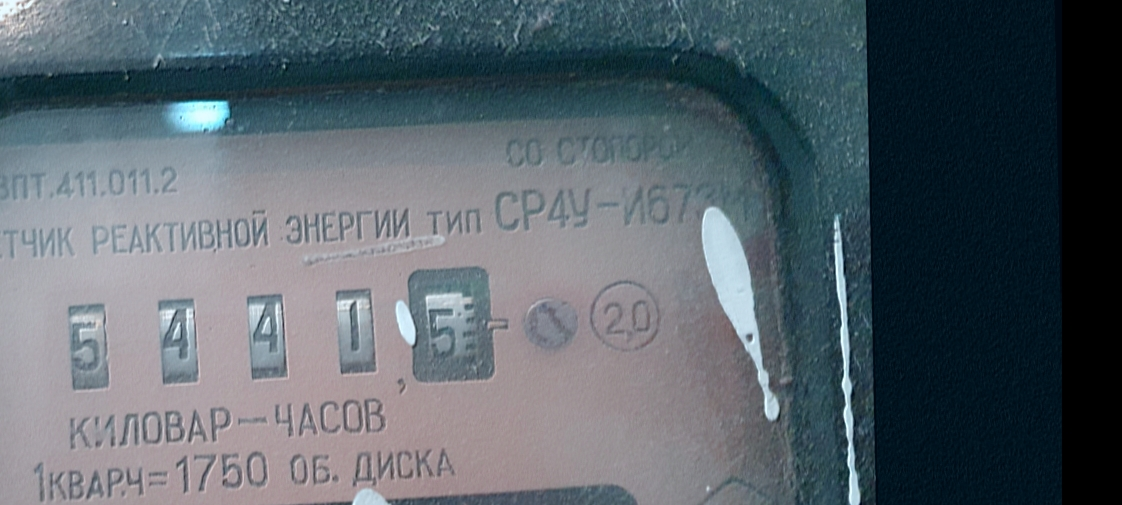1: (338, 296, 363, 355)
4: (243, 294, 281, 360), (155, 302, 192, 363)
5: (63, 317, 103, 375), (422, 301, 458, 364)
screen: (40, 243, 516, 418)
